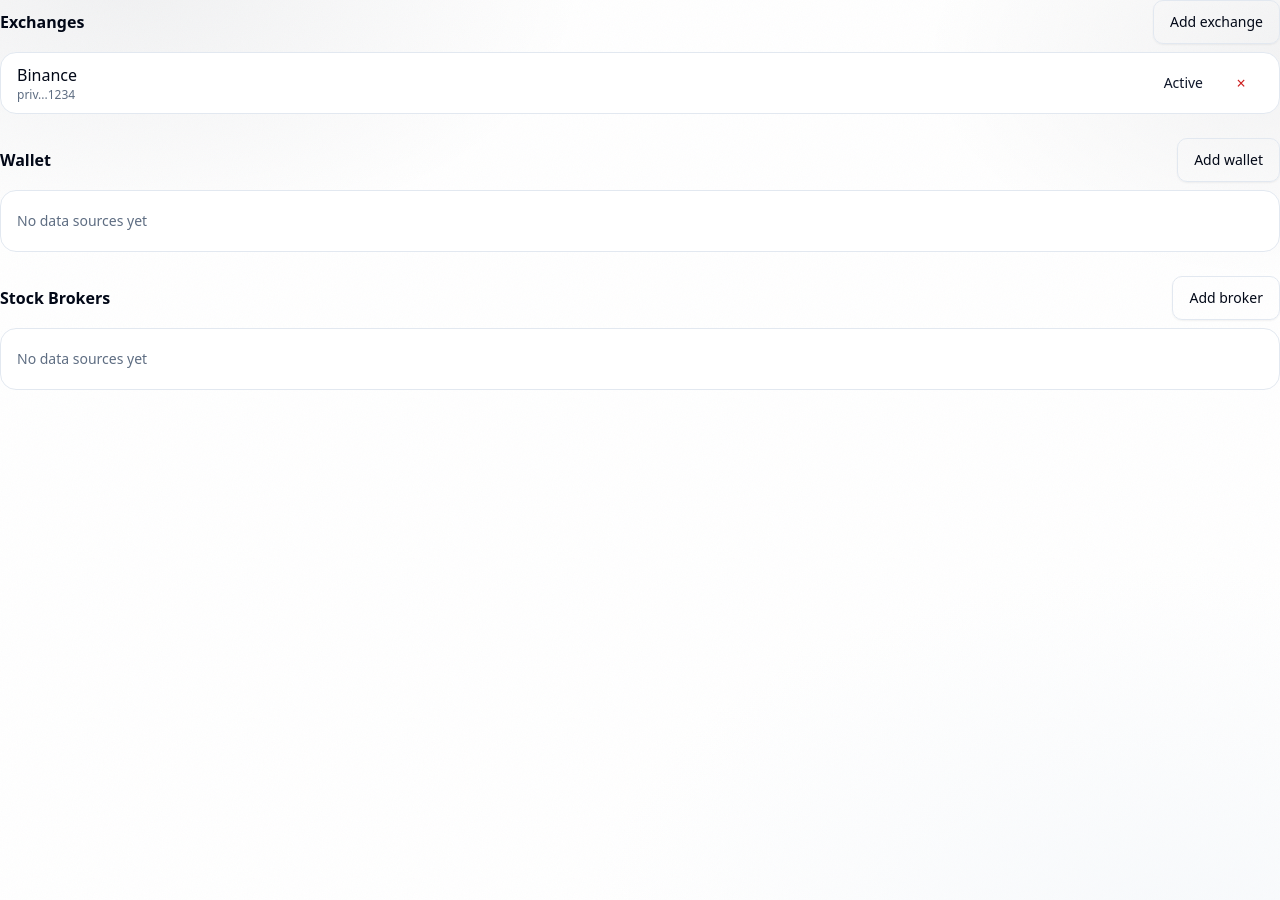
it: mobile data sources › shows a useful source save error for Invalid exchange
The image size is (1280, 900).
Click the button "Add exchange" at (1217,22), box x1=1153 y1=0 x2=1279 y2=44
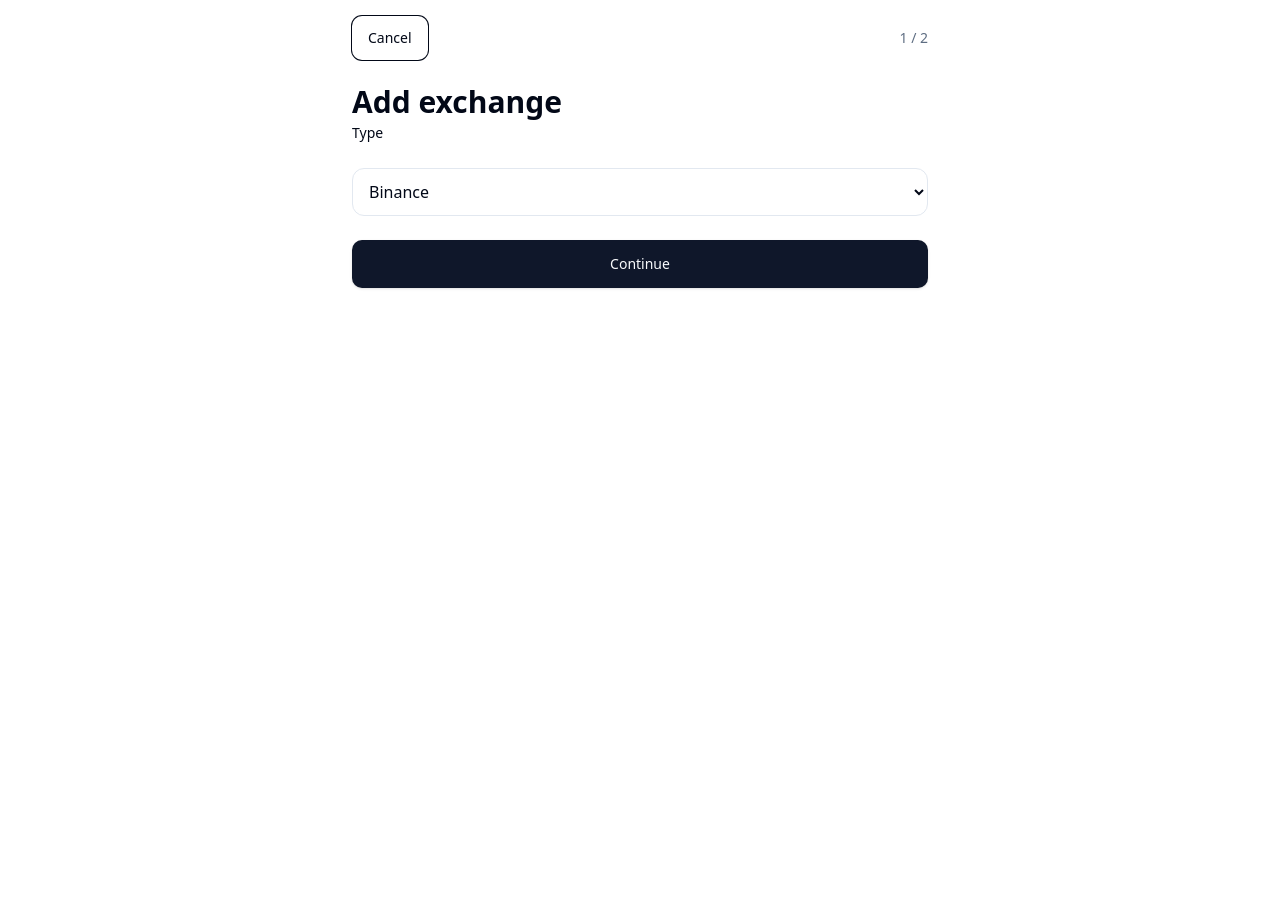
Click the button "Continue" at (640,264), box x1=352 y1=240 x2=928 y2=288
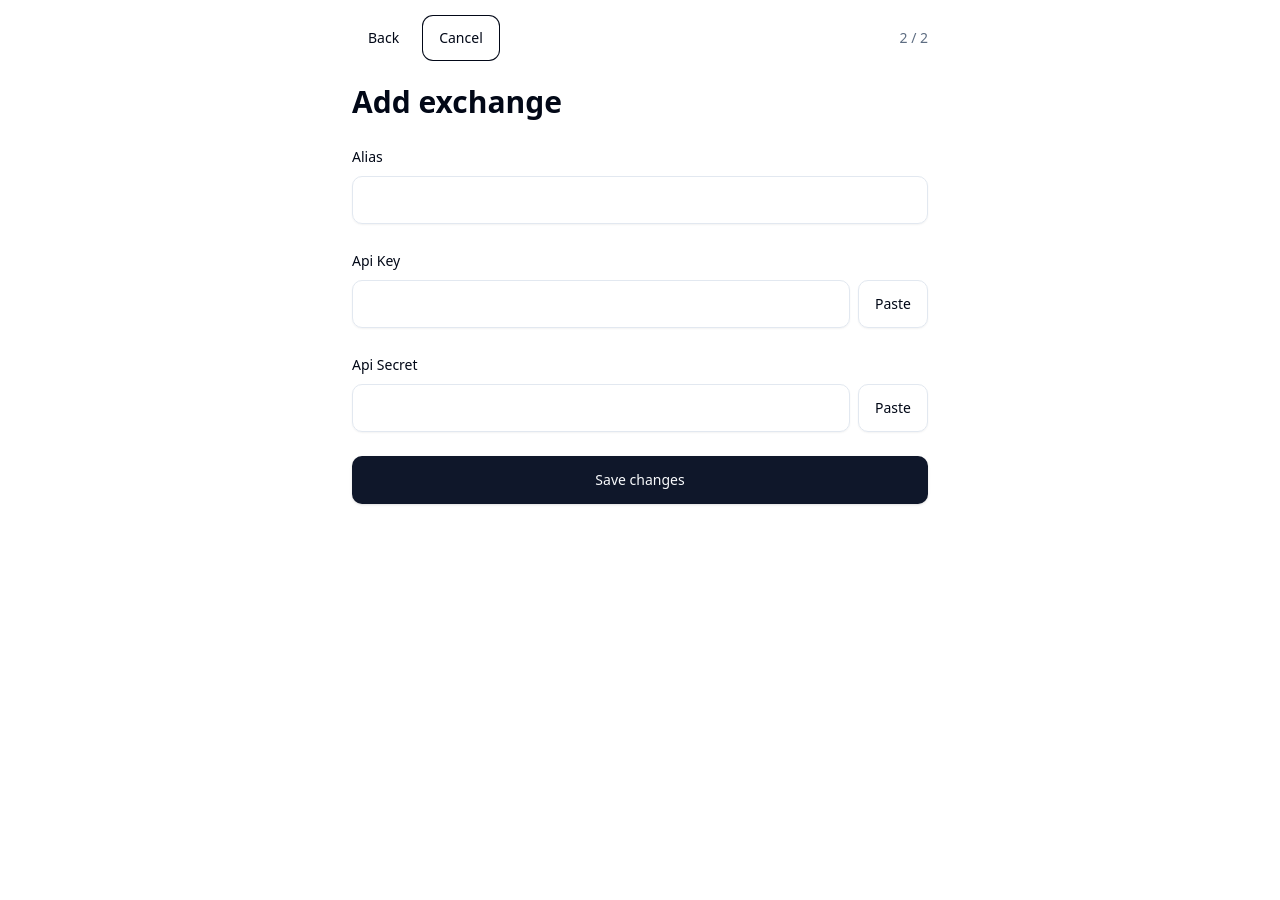
Type "key" into the field labelled "Api Key" at (601,304), box x1=352 y1=280 x2=850 y2=328
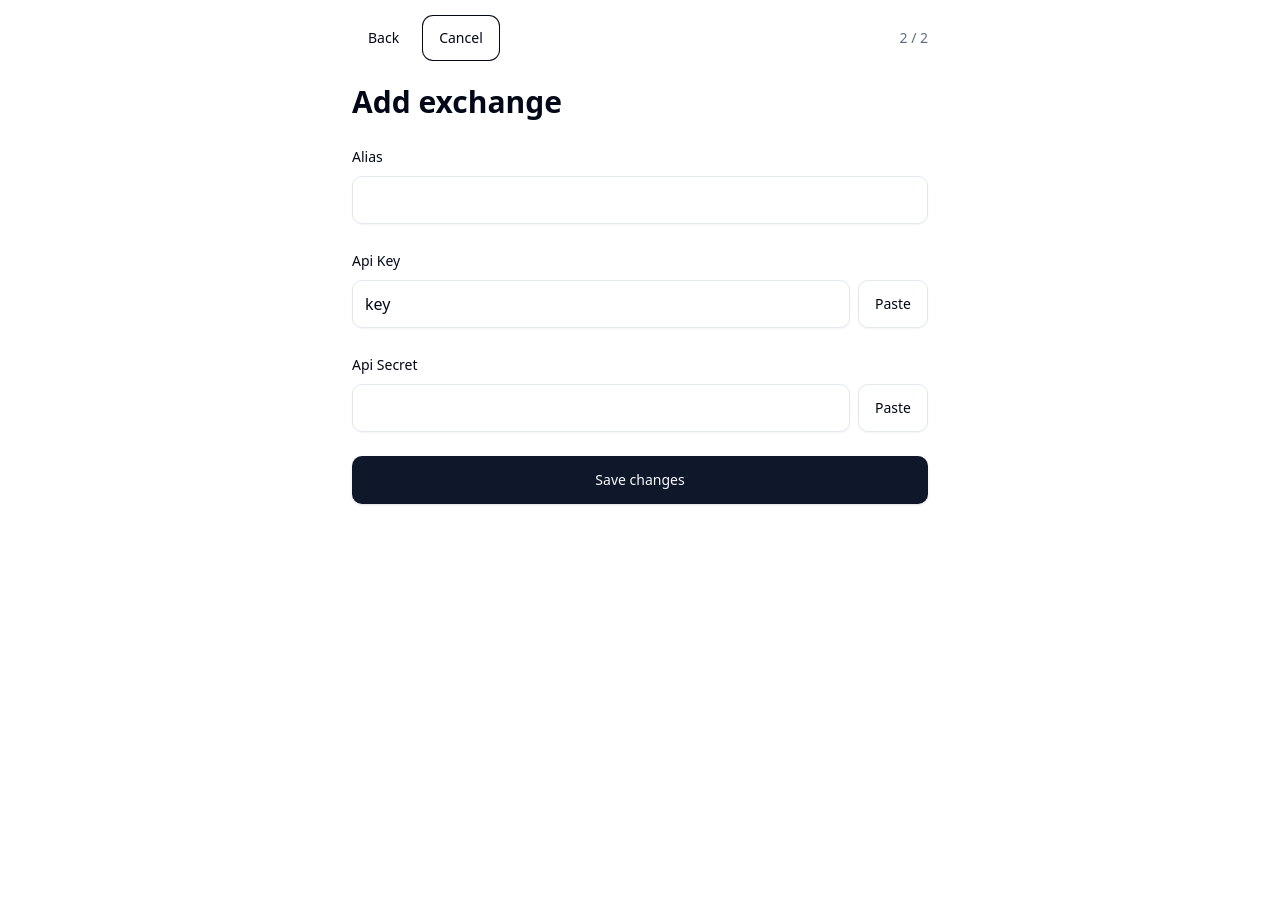
Type "secret" into the password field labelled "Api Secret" at (601,408), box x1=352 y1=384 x2=850 y2=432
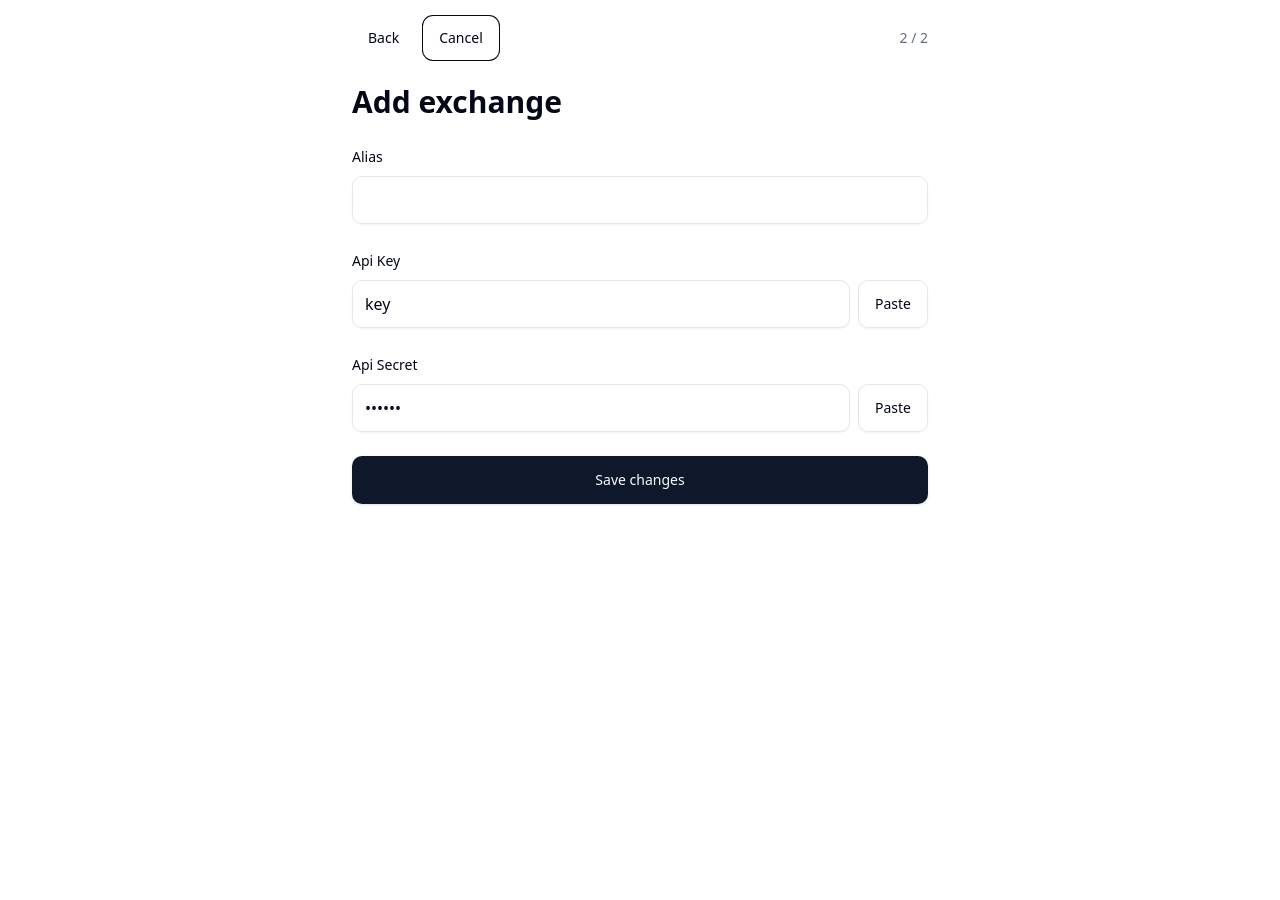
Click the button "Save changes" at (640,480), box x1=352 y1=456 x2=928 y2=504
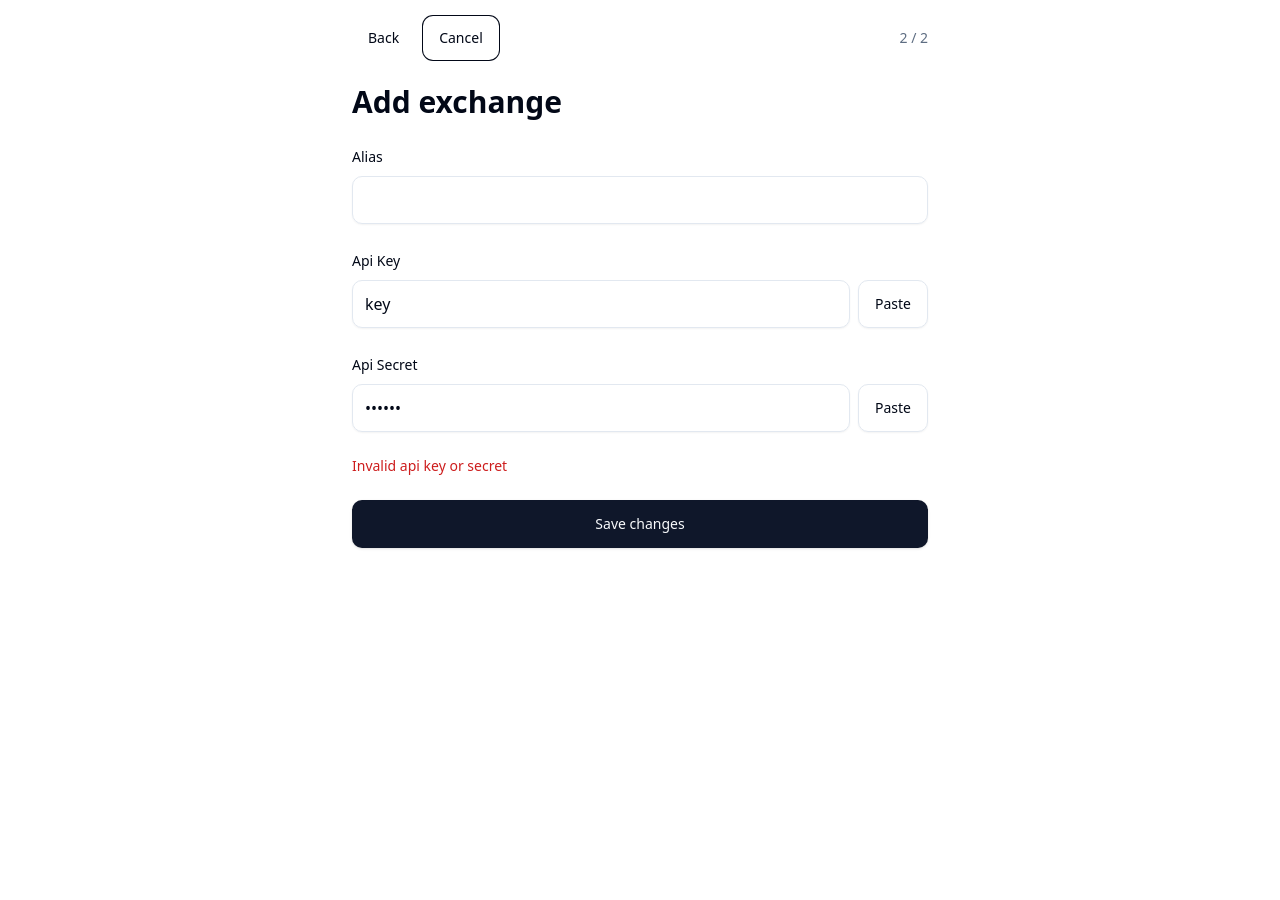
Result: the message reads "Invalid api key or secret" at x1=352 y1=456 x2=507 y2=475
